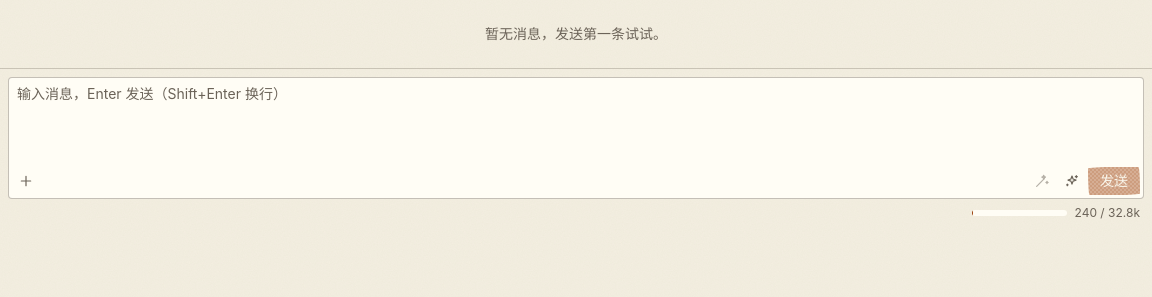
Test: ChatView — stop & failure notices (SPEC 5.8.1-5, 5.8.3) › keeps received text and flags the interruption when the stream breaks (5.8.3-3c)
Expected: the text "暂无消息，发送第一条试试。" is shown, [485,25,667,42]
In the text box with placeholder "输入消息，Enter 发送（Shift+Enter 换行）": (576, 138) [8,77,1144,199], type "提问"
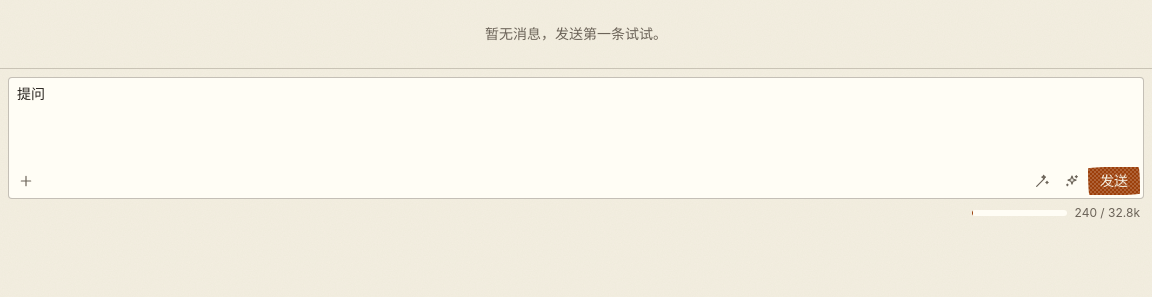
Press Enter in the text box with placeholder "输入消息，Enter 发送（Shift+Enter 换行）", box [8,77,1144,199]
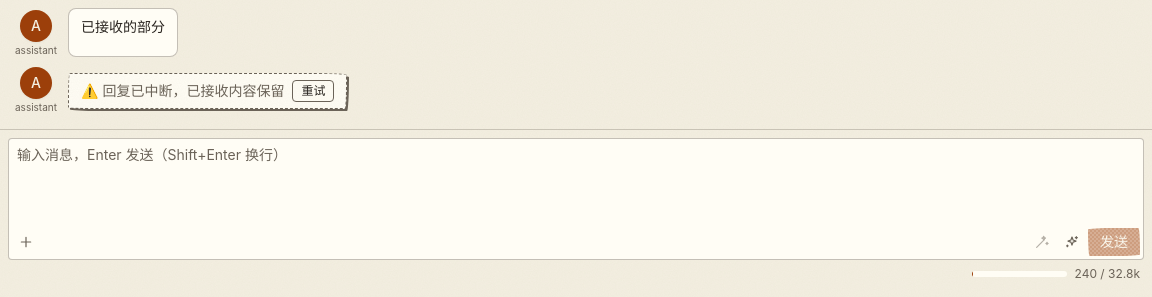
Now the text "⚠️ 回复已中断，已接收内容保留" is shown, box [81,80,284,100]
Now the text "已接收的部分" is shown, box [81,17,165,37]
Now the button "重试" is shown, box [292,80,334,102]
